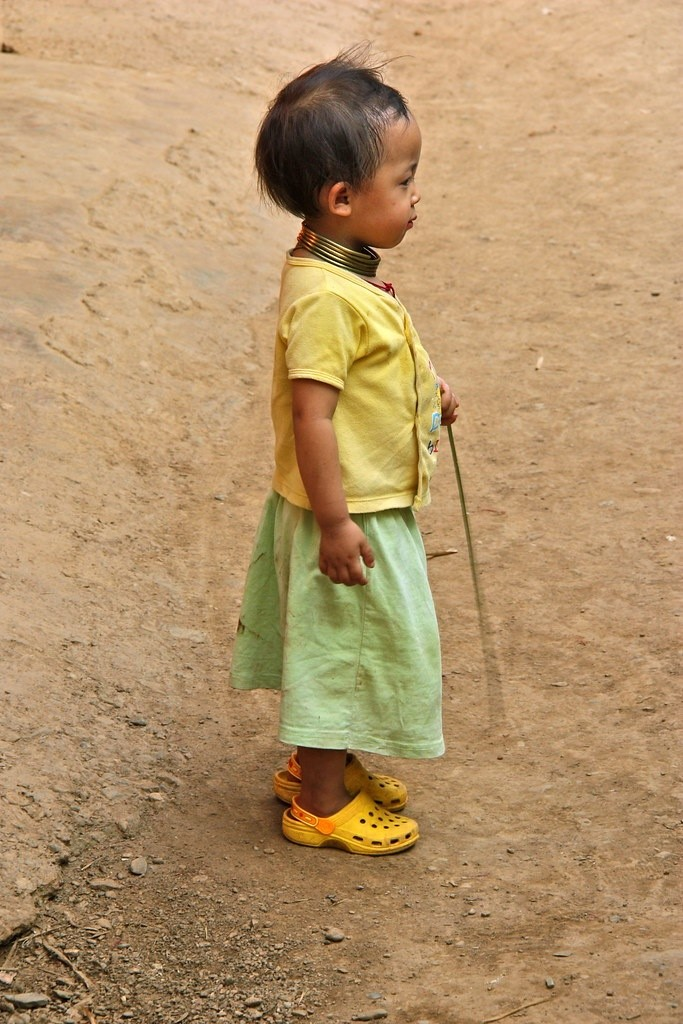face_no_mask: (259, 65, 422, 247)
